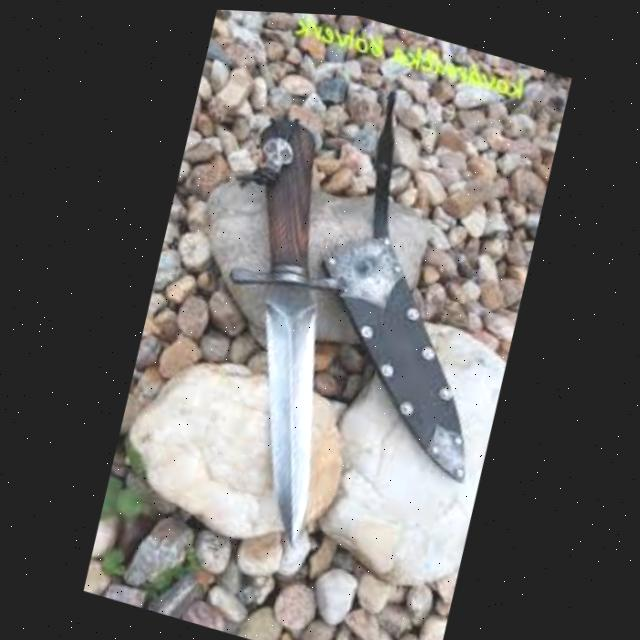Knife: (160, 99, 400, 547)
